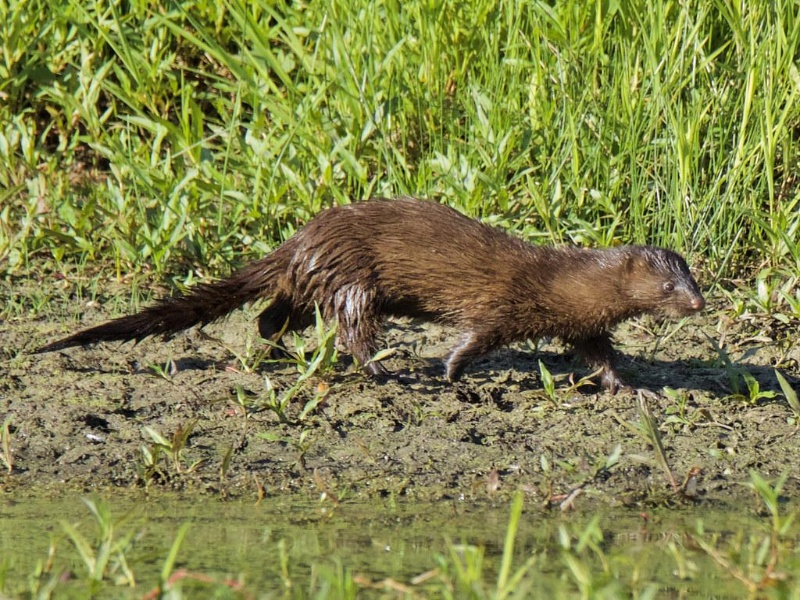minkish: (20, 191, 712, 396)
